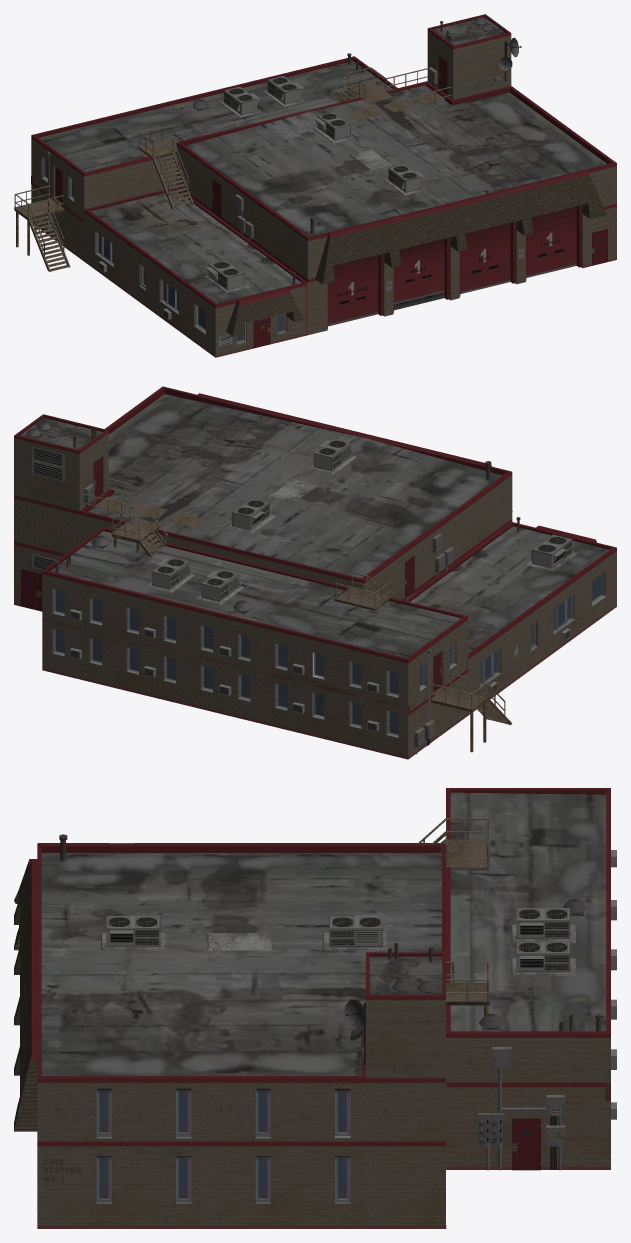
The model's file is fire-station.lod1.glb.
The picture shows the model from 3 angles, top to bottom: view 1: azimuth 30°, elevation 25°; view 2: azimuth 150°, elevation 25°; view 3: azimuth 270°, elevation 25°; orthographic projection. The views are drawn at different scales.
Parts seen in each view (by area): view 1: LOD0_Material #65_0; view 2: LOD0_Material #65_0; view 3: LOD0_Material #65_0.
Boxes of the visible parts, x1,y1,x2,y2 form: LOD0_Material #65_0: (14, 14, 616, 357); LOD0_Material #65_0: (14, 386, 616, 759); LOD0_Material #65_0: (14, 788, 616, 1228).
Size of the model in its own units: 31.27 by 10.57 by 23.61.
1 material, 1 textured.
